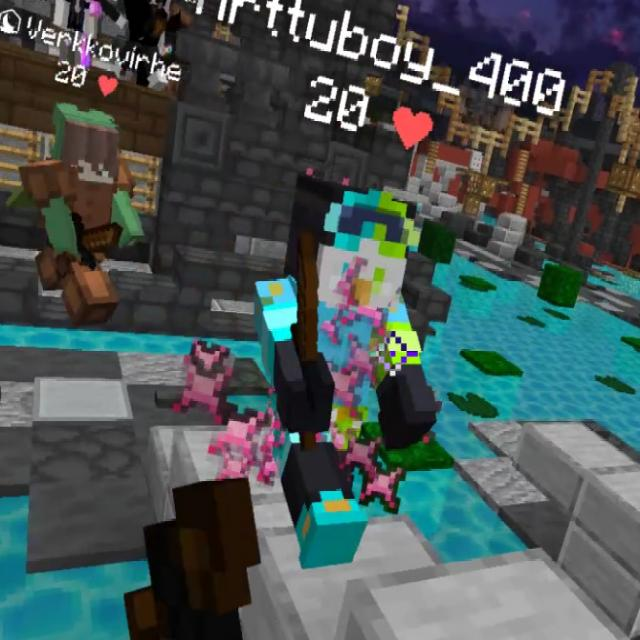Player: (253, 173, 433, 569), (21, 102, 144, 322)
